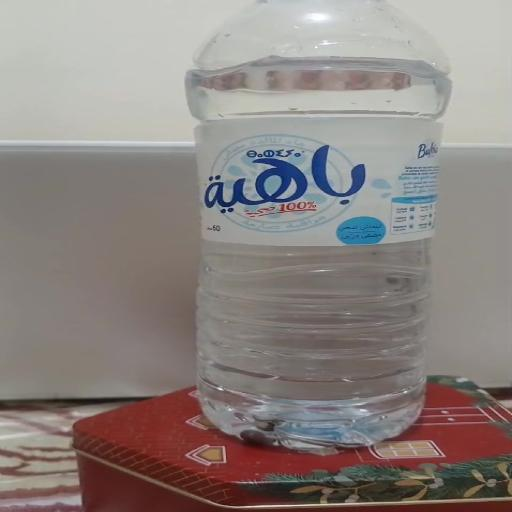bouteille non conformite: (180, 5, 456, 452)
